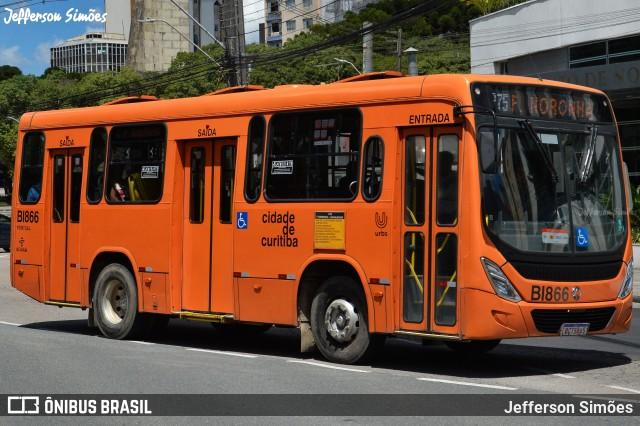F. NORONHA: (507, 90, 595, 124)
